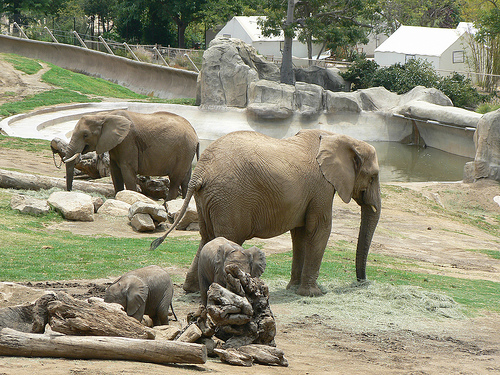elephant: (162, 125, 391, 290), (63, 105, 206, 207)
